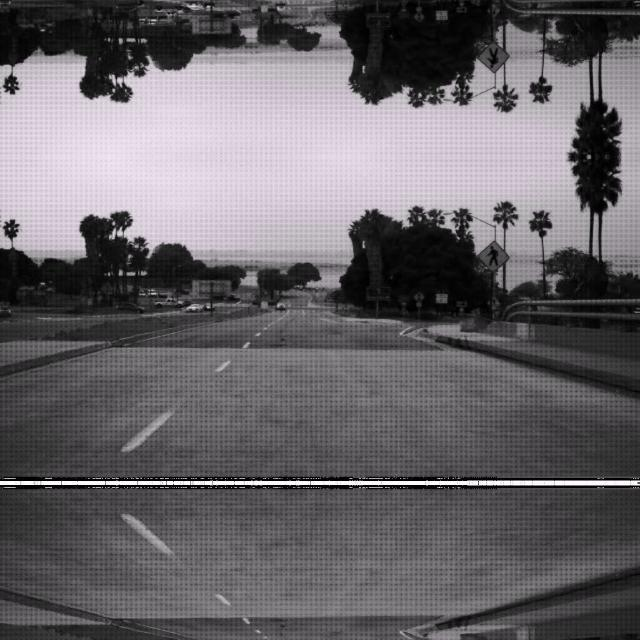pedestrianCrossing: (476, 238, 510, 272), (476, 41, 510, 74)
